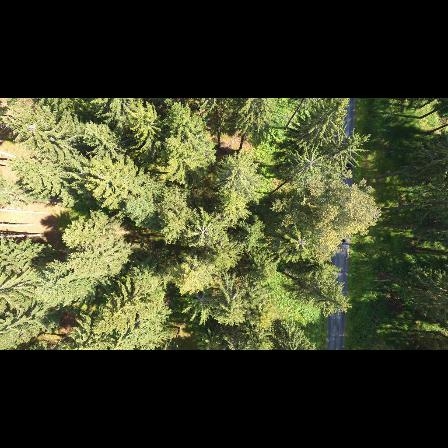Sick: (190, 218, 217, 245), (189, 287, 214, 315), (290, 230, 313, 255)
